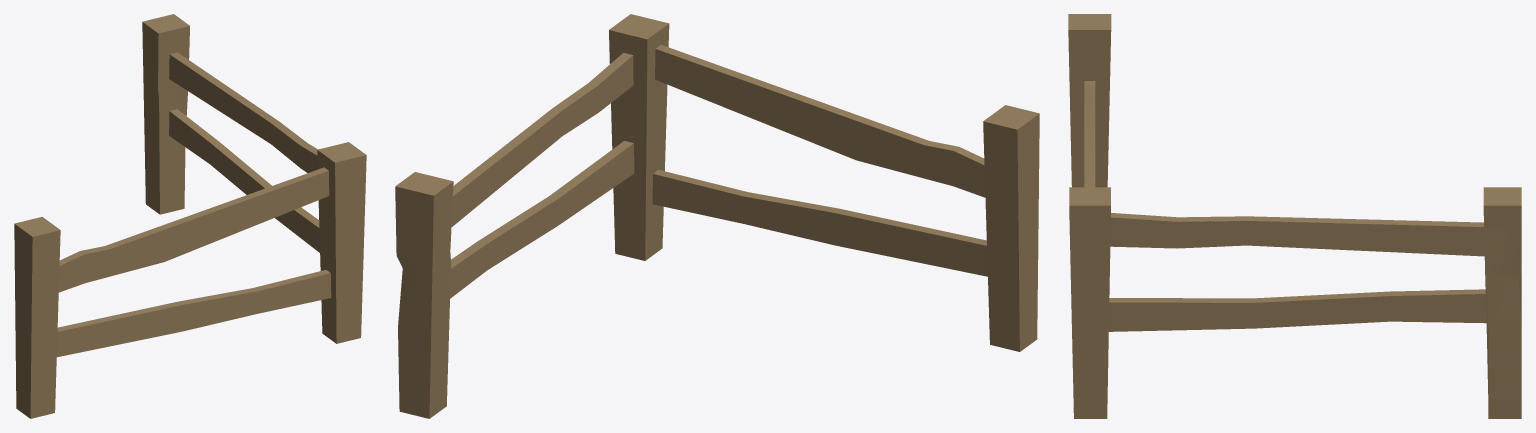
The model's file is model_polytope_fence_corner.fbx.
3 renders of one model, left to right at view 1: azimuth 30°, elevation 25°; view 2: azimuth 150°, elevation 25°; view 3: azimuth 270°, elevation 25°, orthographic. The views are drawn at different scales.
Visible parts, largest first — view 1: model_polytope_fence_corner; view 2: model_polytope_fence_corner; view 3: model_polytope_fence_corner.
Boxes of the visible parts, x1,y1,x2,y2 form: model_polytope_fence_corner: (14, 14, 366, 418); model_polytope_fence_corner: (395, 14, 1039, 418); model_polytope_fence_corner: (1068, 14, 1521, 418).
Bounding box in the file's own units: 367 × 192 × 367.
